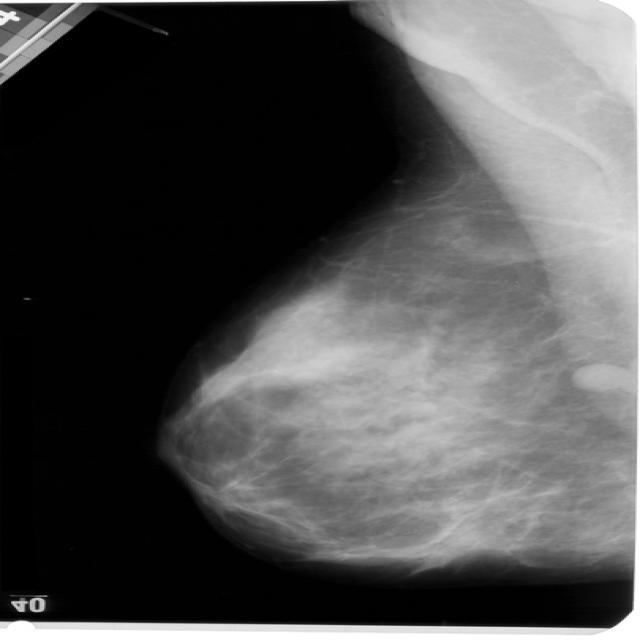tumour: (569, 361, 629, 392)
